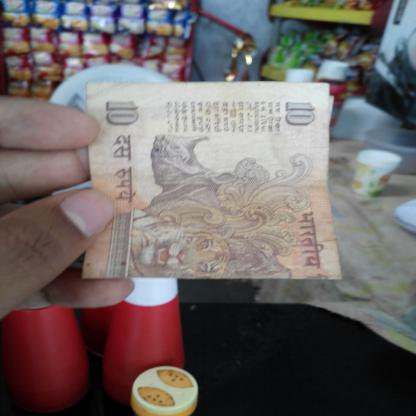Old10Back: (80, 82, 342, 280)
